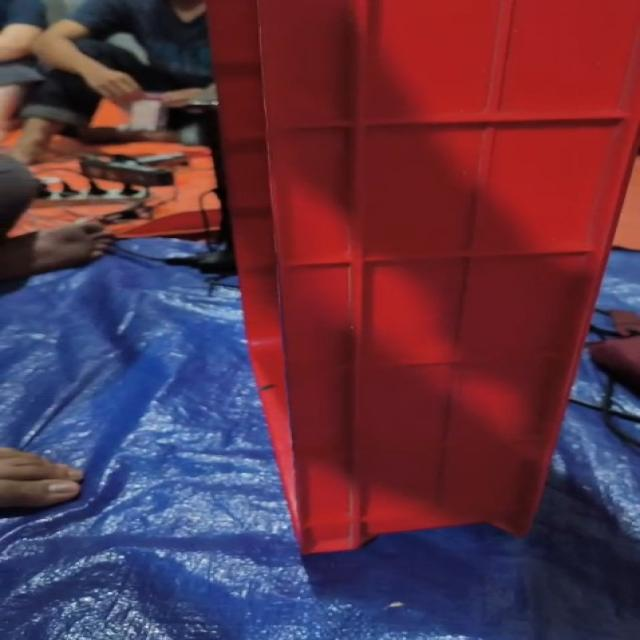red plastic box: (206, 0, 639, 555)
